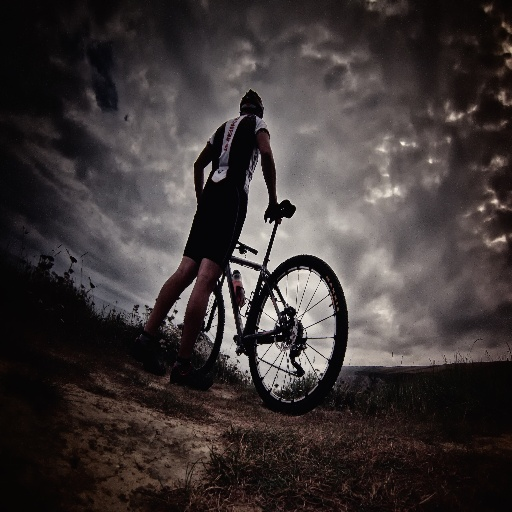hand: (265, 200, 279, 222)
